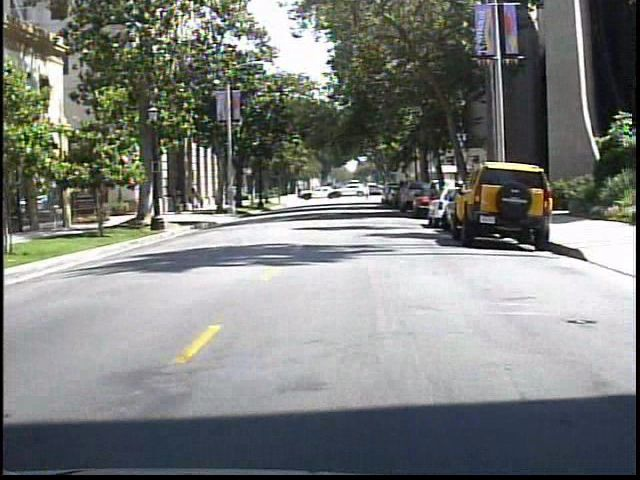person: (188, 186, 209, 218), (169, 184, 186, 217), (360, 181, 374, 203)
